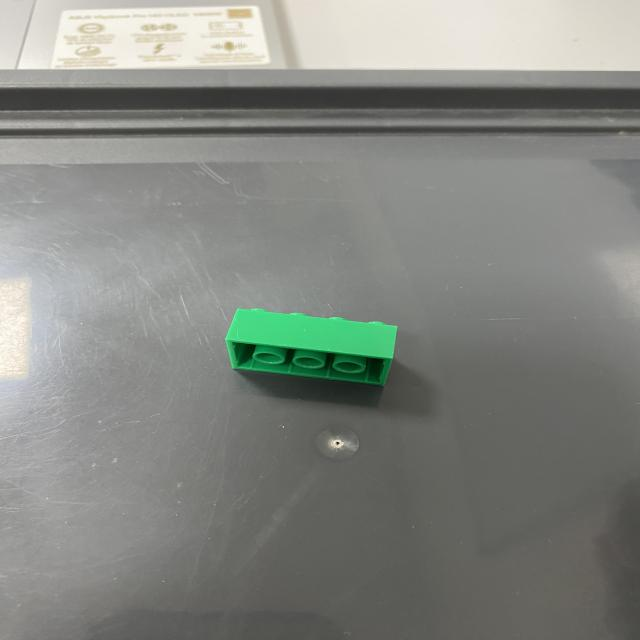C4x2x1: (221, 305, 402, 357), (221, 340, 392, 387)
